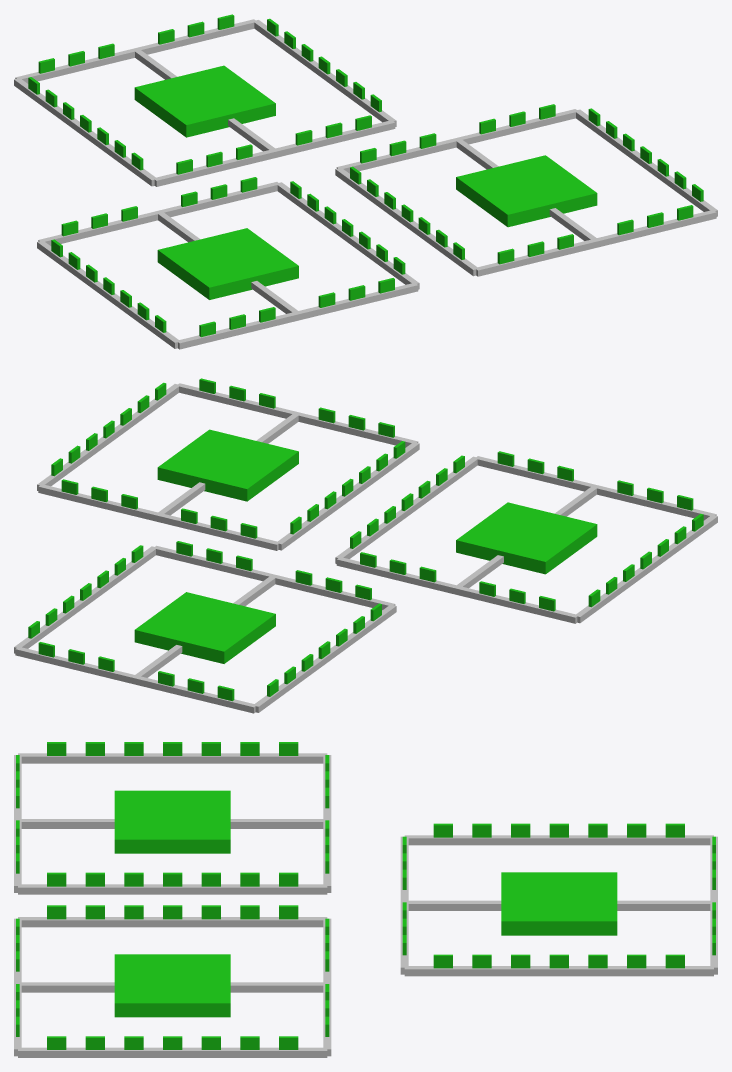
The model's file is ConcurrentTrap.fbx.
The picture shows the model from 3 angles, top to bottom: view 1: azimuth 30°, elevation 25°; view 2: azimuth 150°, elevation 25°; view 3: azimuth 270°, elevation 25°; orthographic projection. The views are drawn at different scales.
Parts seen in each view (by area): view 1: Cube.036, Cube.004, Cube.068, Cube.038, Cube.070, Cube.006, Cube.066; view 2: Cube.036, Cube.004, Cube.038, Cube.006, Cube.070, Cube.068, Cube.067, Cube.066, Cube.069; view 3: Cube.004, Cube.036, Cube.006, Cube.038, Cube.070, Cube.068, Cube.065, Cube.066, Cube.069, Cube.067.
Part boxes in pixels (box(x1,y1,x2,y2)): Cube.036: box(335, 109, 717, 276); Cube.004: box(14, 19, 396, 186); Cube.068: box(39, 182, 419, 349); Cube.038: box(456, 155, 597, 227); Cube.070: box(157, 228, 298, 299); Cube.006: box(134, 65, 275, 137); Cube.066: box(37, 240, 180, 348); Cube.036: box(37, 383, 419, 550); Cube.004: box(14, 545, 396, 713); Cube.038: box(157, 429, 298, 501); Cube.006: box(134, 592, 275, 663); Cube.070: box(456, 502, 597, 574); Cube.068: box(337, 456, 717, 623); Cube.067: box(336, 559, 577, 623); Cube.066: box(574, 515, 717, 623); Cube.069: box(463, 486, 596, 588); Cube.004: box(400, 835, 717, 976); Cube.036: box(14, 917, 331, 1057); Cube.006: box(501, 872, 617, 935); Cube.038: box(114, 954, 230, 1017); Cube.070: box(114, 790, 230, 853); Cube.068: box(14, 753, 331, 892); Cube.065: box(18, 884, 327, 894); Cube.066: box(18, 753, 327, 763); Cube.069: box(20, 819, 324, 828); Cube.067: box(323, 755, 331, 892).
Bounding box in the file's own units: 182 × 6 × 182.
